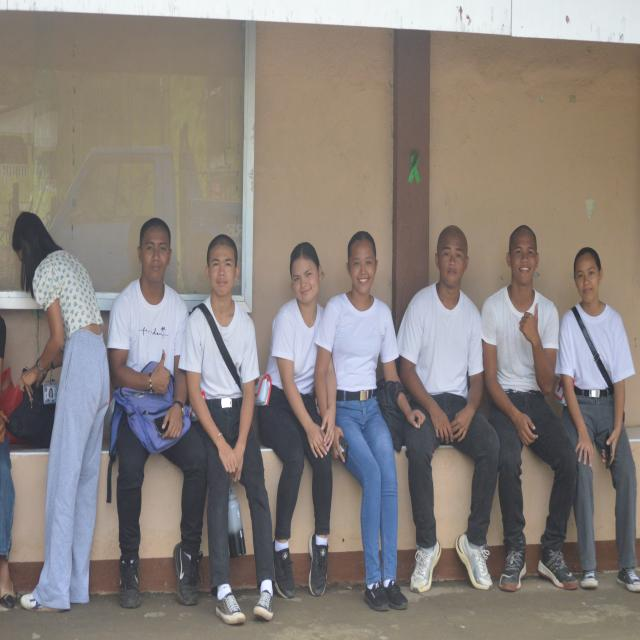person: (13, 213, 109, 610), (108, 218, 206, 605), (398, 226, 499, 592), (180, 235, 274, 624), (315, 232, 407, 610), (482, 226, 577, 591), (556, 248, 639, 591), (258, 242, 332, 598), (0, 413, 15, 608)
